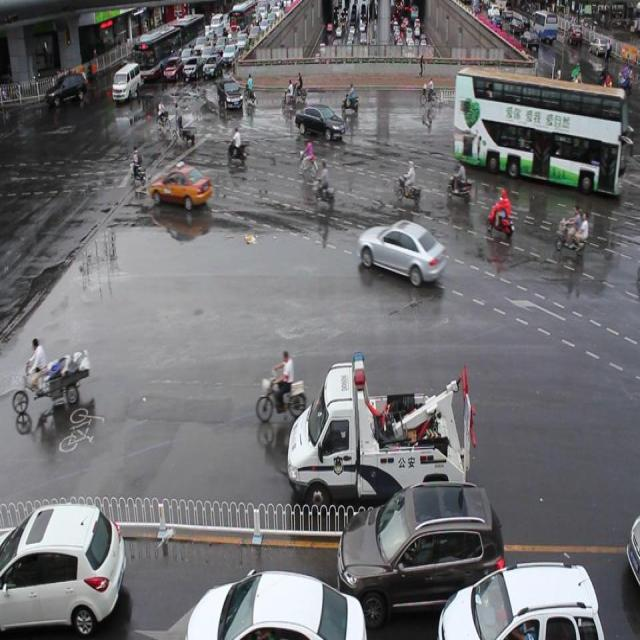bus: (287, 352, 473, 518)
car: (335, 482, 503, 626), (0, 504, 126, 634), (436, 560, 603, 640), (190, 570, 367, 640), (358, 220, 445, 286), (152, 163, 211, 208), (294, 104, 345, 142), (622, 512, 640, 589), (217, 76, 244, 111)
van: (453, 64, 629, 196)
